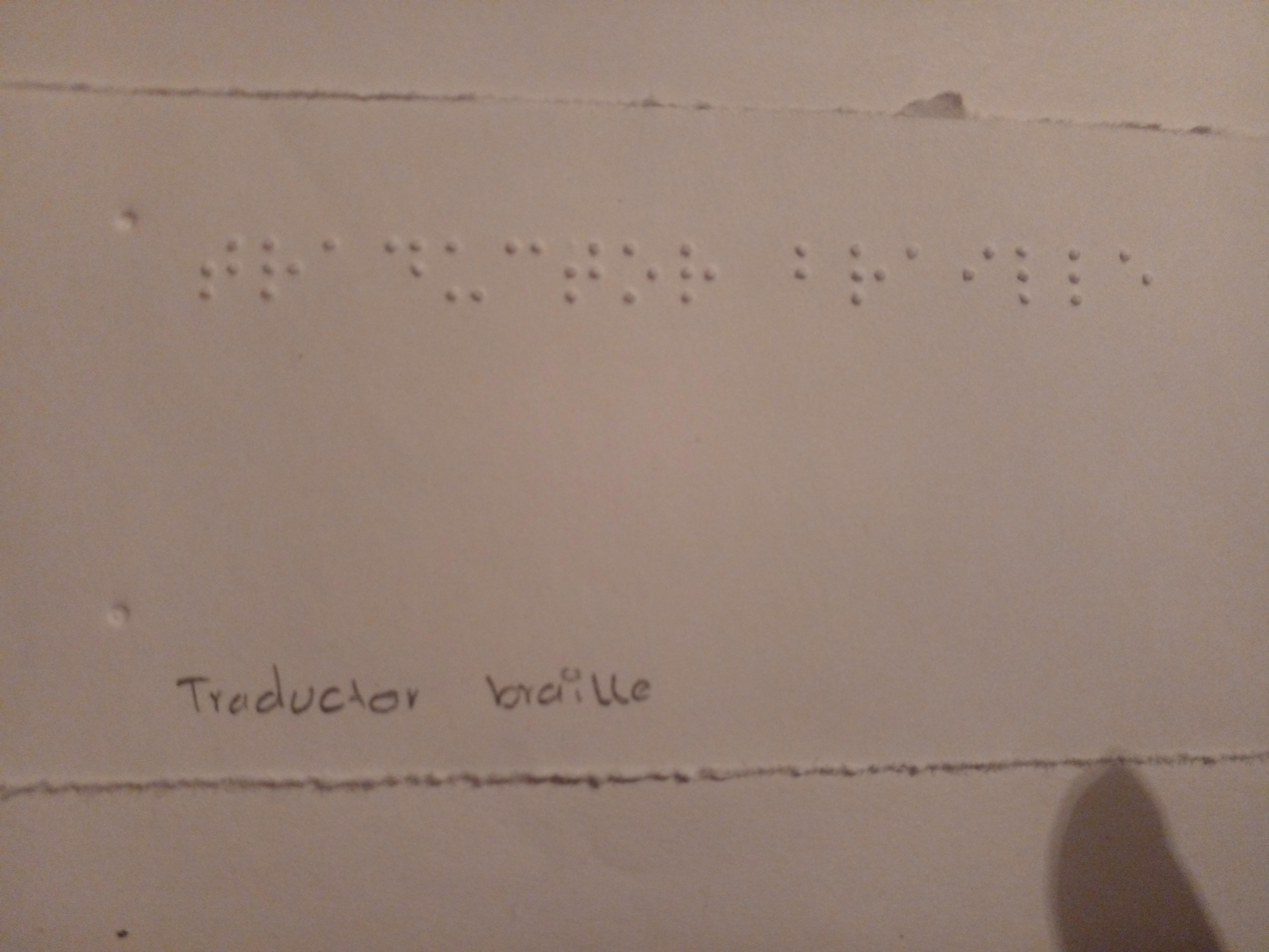a: (311, 212, 355, 316), (900, 223, 940, 327)
b: (784, 239, 832, 341)
c: (500, 223, 550, 322)
d: (372, 214, 432, 328)
e: (1104, 223, 1166, 315)
i: (948, 226, 1001, 328)
l: (1012, 232, 1053, 327), (1058, 232, 1097, 319)
o: (615, 229, 661, 335)
r: (833, 228, 894, 347), (669, 226, 734, 335), (254, 222, 305, 319)
t: (555, 223, 609, 336), (191, 222, 249, 318)
u: (437, 228, 494, 322)
